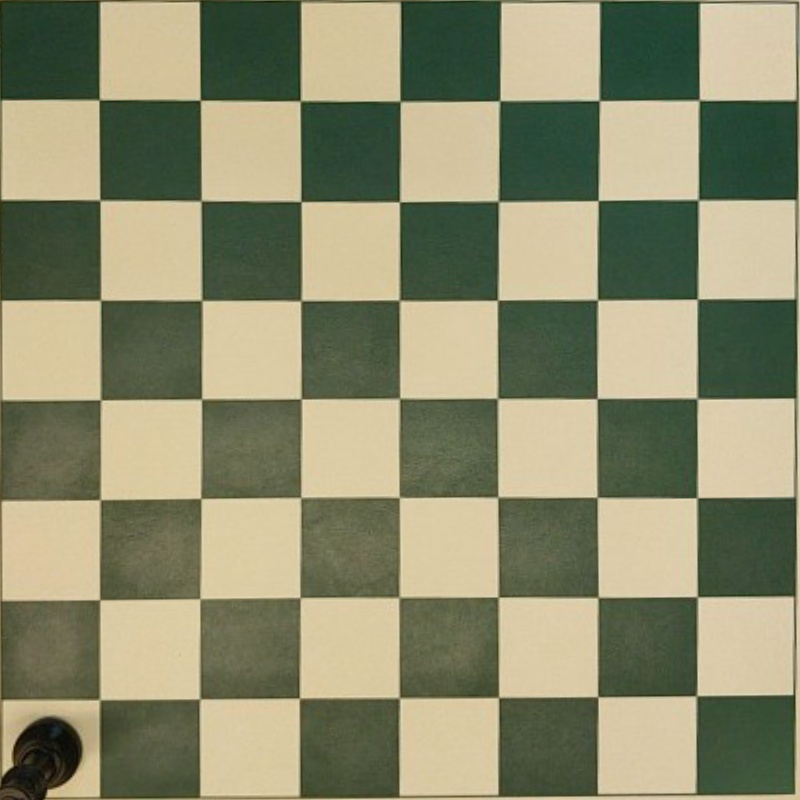black-king: (1, 716, 82, 800)
